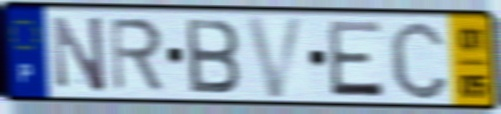B: (182, 16, 243, 96)
C: (386, 17, 451, 103)
E: (324, 18, 386, 100)
N: (49, 13, 109, 95)
R: (107, 15, 167, 94)
V: (243, 14, 309, 101)
